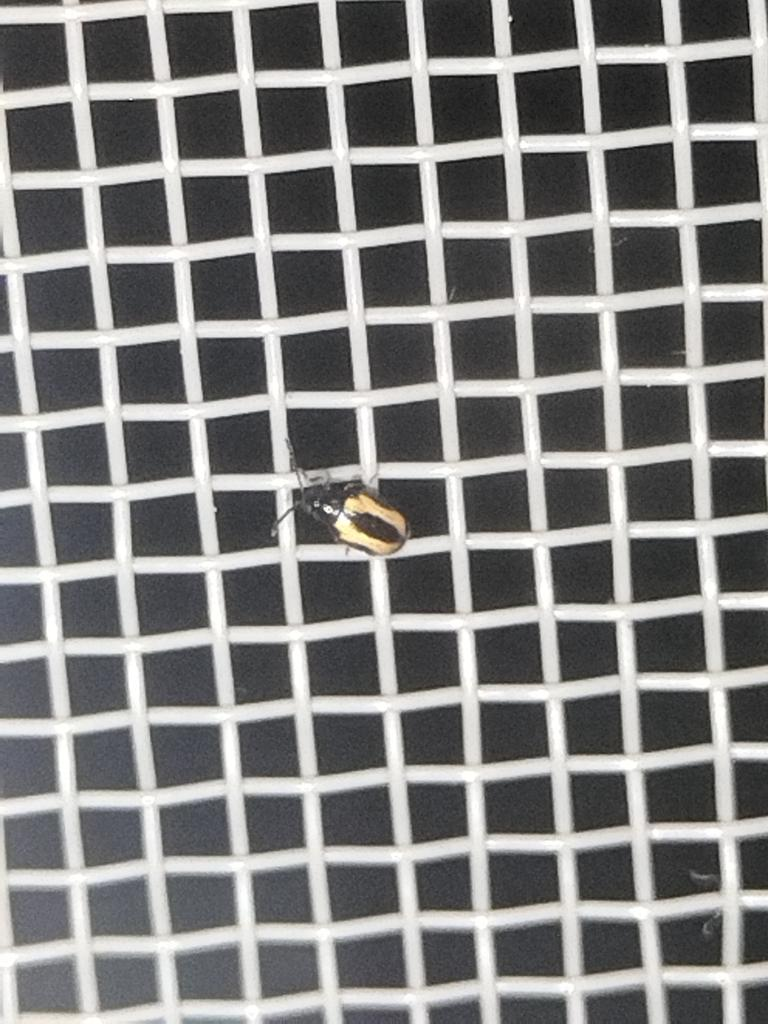flea_beetle: (232, 416, 428, 588)
